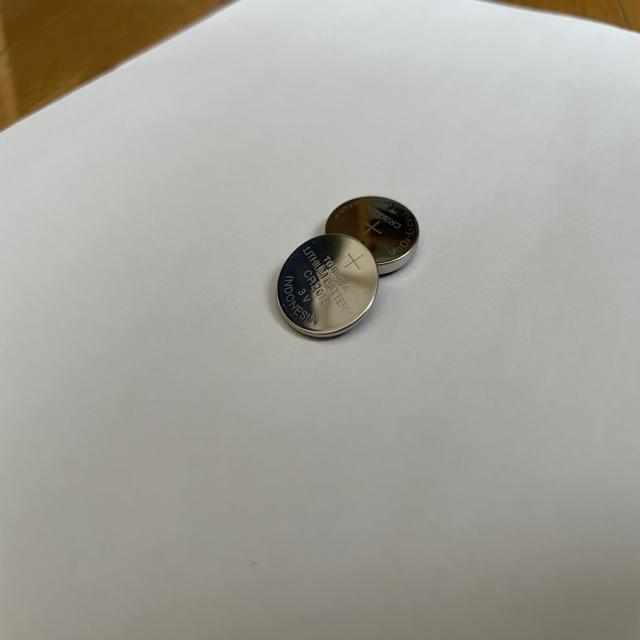COIN: (276, 232, 379, 340), (323, 196, 420, 280)
